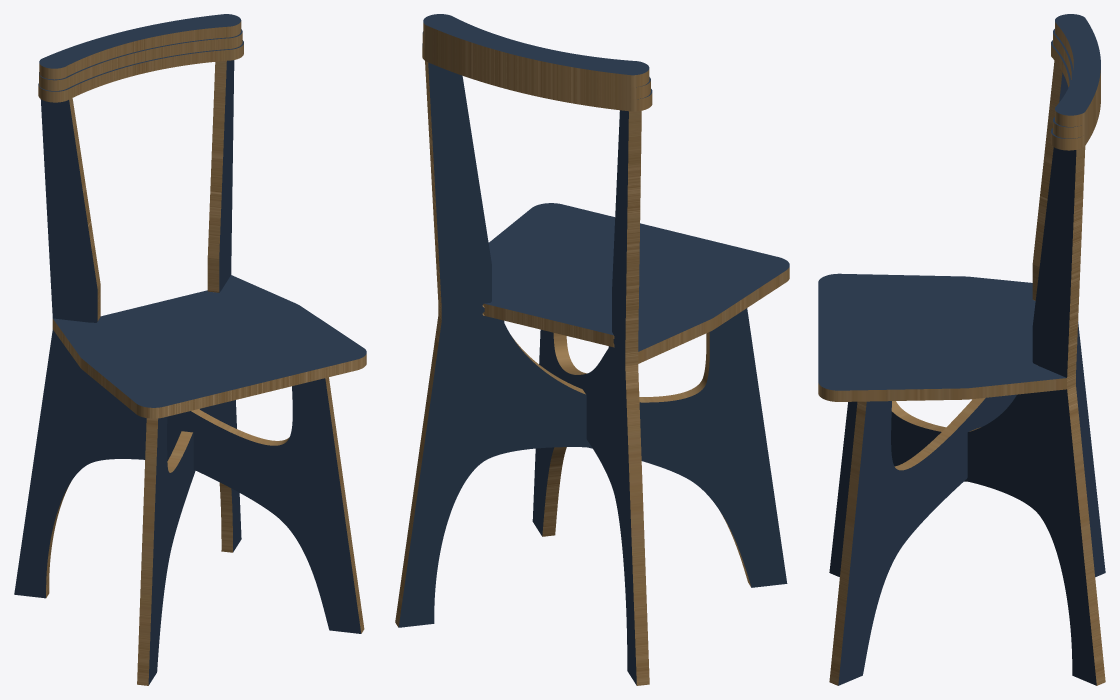
Rendered from NODO_SILLA_CRUZ_CUARZO_V2_RESPALDO_CORREGIDO.glb.
3 views of the same model, side by side, from view 1: azimuth 30°, elevation 25°; view 2: azimuth 150°, elevation 25°; view 3: azimuth 270°, elevation 25° (orthographic). The views are drawn at different scales.
Parts seen in each view (by area): view 1: Lateral_2, Asiento, Lateral_1, Respaldo_3, Respaldo_1, Respaldo_2; view 2: Lateral_1, Asiento, Lateral_2, Respaldo_3, Respaldo_1, Respaldo_2; view 3: Lateral_1, Asiento, Lateral_2, Respaldo_3, Respaldo_1, Respaldo_2.
Boxes of the visible parts, x1,y1,x2,y2 form: Lateral_2: [14, 98, 364, 633]; Asiento: [52, 275, 366, 418]; Lateral_1: [137, 60, 241, 685]; Respaldo_3: [39, 14, 241, 79]; Respaldo_1: [38, 40, 243, 102]; Respaldo_2: [39, 29, 242, 90]; Lateral_1: [395, 61, 787, 627]; Asiento: [483, 203, 789, 363]; Lateral_2: [532, 110, 649, 685]; Respaldo_3: [423, 14, 649, 87]; Respaldo_1: [422, 43, 652, 111]; Respaldo_2: [422, 31, 650, 99]; Lateral_1: [829, 146, 1105, 685]; Asiento: [818, 273, 1066, 401]; Lateral_2: [829, 60, 1105, 685]; Respaldo_3: [1055, 14, 1100, 126]; Respaldo_1: [1051, 40, 1100, 150]; Respaldo_2: [1053, 29, 1100, 138].
Bounding box in the file's own units: 0.3971 × 0.8916 × 0.4127.
2 materials, 2 textured.
